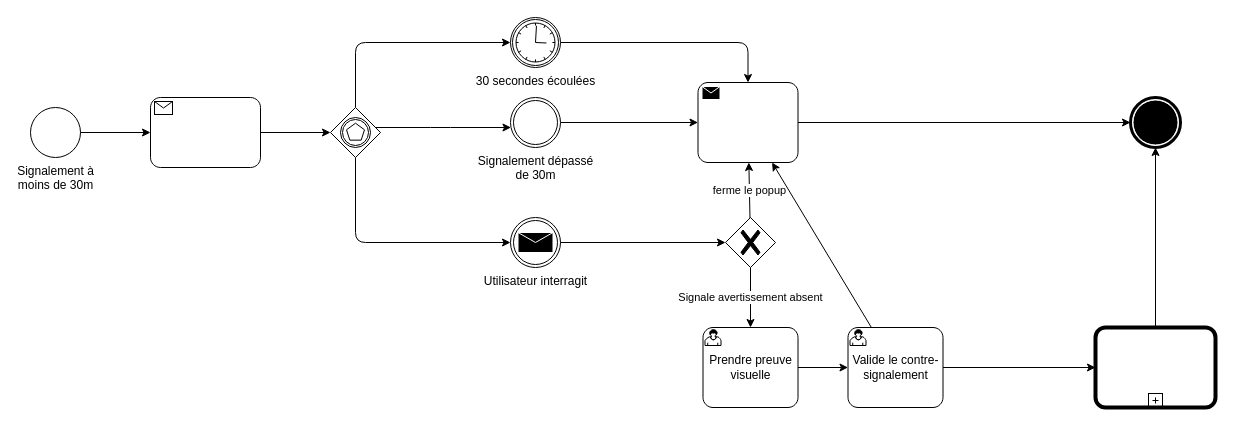
The diagram is 1233 pixels wide and 425 high, and some of its shapes have lost their labels. Here are the shapes that lost their labels. From the top down, the centre of each, then its label:
At pixel 205 132: "Affichage du signalement".
At pixel 747 122: "Disparition de la pop-up".
At pixel 1155 367: "Synchro montante".
